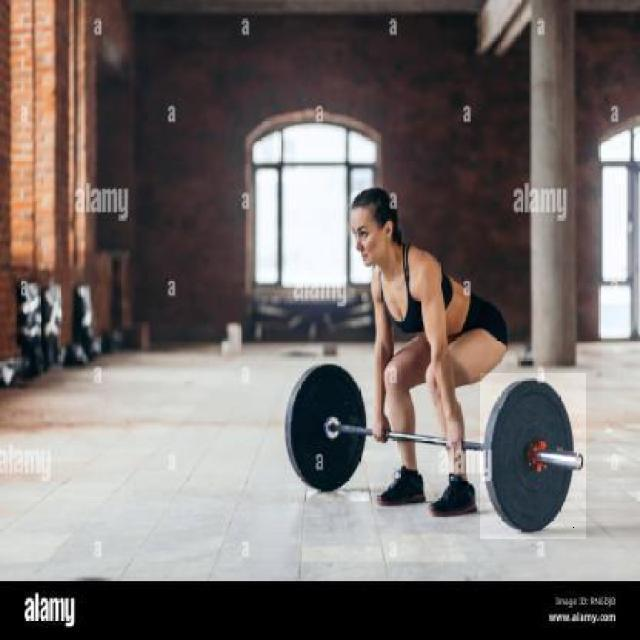barbell: (481, 374, 587, 540)
